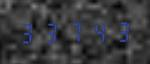four: (87, 19, 109, 43)
seven: (64, 20, 86, 43)
three: (18, 20, 40, 44), (41, 20, 63, 44), (110, 19, 132, 42)
